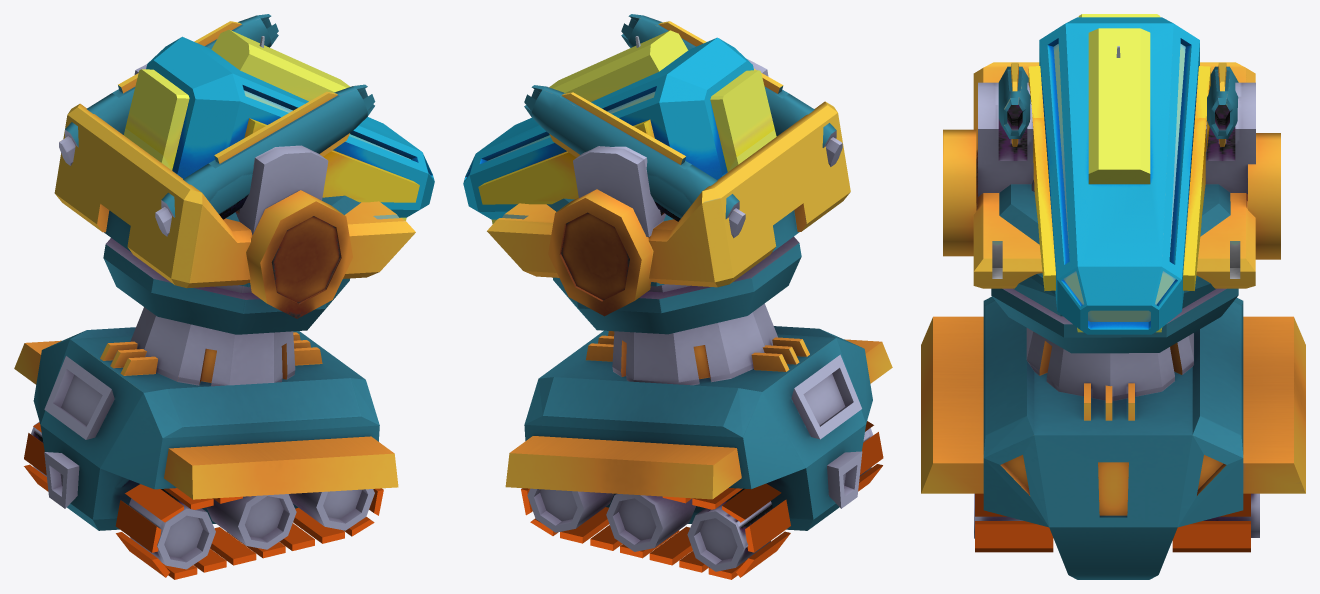
File: Player_moving_upgrade17.obj
3 renders of one model, left to right at view 1: azimuth 30°, elevation 25°; view 2: azimuth 150°, elevation 25°; view 3: azimuth 270°, elevation 25°, orthographic. The views are drawn at different scales.
Parts seen in each view (by area): view 1: Object015, Object014, Box009, Box017, Box016; view 2: Object015, Object014, Box009, Box016, Box017; view 3: Object015, Object014, Box017, Box016, Box009.
Part boxes in pixels (x1=…): Object015: x1=14, y1=29, x2=434, y2=530; Object014: x1=59, y1=14, x2=375, y2=236; Box009: x1=31, y1=421, x2=374, y2=569; Box017: x1=115, y1=484, x2=383, y2=579; Box016: x1=24, y1=422, x2=48, y2=491; Object015: x1=463, y1=30, x2=892, y2=530; Object014: x1=524, y1=14, x2=842, y2=238; Box009: x1=527, y1=428, x2=873, y2=571; Box016: x1=521, y1=483, x2=790, y2=579; Box017: x1=858, y1=421, x2=883, y2=491; Object015: x1=921, y1=14, x2=1305, y2=579; Object014: x1=998, y1=62, x2=1238, y2=146; Box017: x1=975, y1=493, x2=1053, y2=552; Box016: x1=1172, y1=493, x2=1250, y2=552; Box009: x1=974, y1=493, x2=1259, y2=538.
Bounding box in the file's own units: 70.38 × 88.9 × 59.78.
5 materials, 3 textured.
